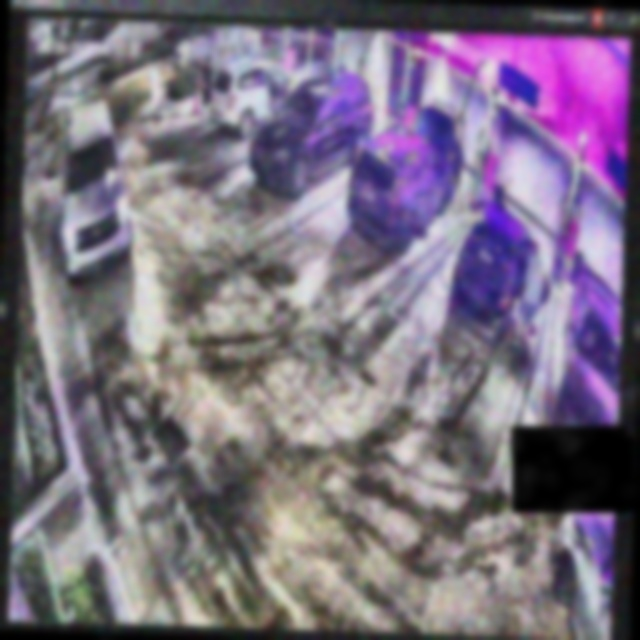Car: (349, 99, 456, 254), (252, 67, 374, 199), (450, 200, 550, 359)
